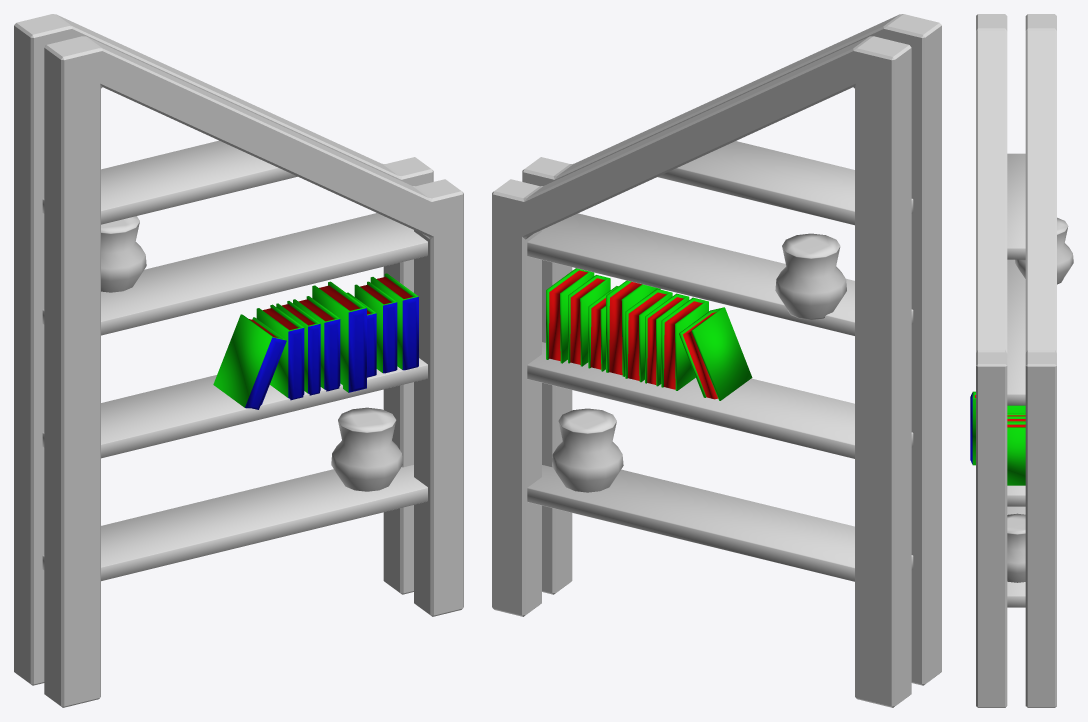
File: polka2.fbx
The picture shows the model from 3 angles, left to right: view 1: azimuth 30°, elevation 25°; view 2: azimuth 150°, elevation 25°; view 3: azimuth 270°, elevation 25°; orthographic projection. The views are drawn at different scales.
Visible parts, largest first — view 1: Cube.006, Cube.041, Cube.042, Cylinder.017, Cube.043, Cube.047, Cylinder.016, Cube.044, Cube.050, Cube.049, Cube.046, Cube.045 (+1 smaller); view 2: Cube.042, Cube.041, Cube.006, Cylinder.016, Cylinder.017, Cube.043, Cube.044, Cube.047, Cube.050, Cube.049, Cube.046, Cube.045 (+1 smaller); view 3: Cube.006, Cube.042, Cube.041, Cylinder.017, Cube.050, Cylinder.016, Cube.047.
Boxes of the visible parts, <box> form: Cube.006: <box>44,36,463,707</box>; Cube.041: <box>42,140,427,581</box>; Cube.042: <box>14,14,433,685</box>; Cylinder.017: <box>331,407,402,491</box>; Cube.043: <box>213,314,286,409</box>; Cube.047: <box>312,281,366,392</box>; Cylinder.016: <box>101,216,146,292</box>; Cube.044: <box>256,304,304,400</box>; Cube.050: <box>370,273,418,370</box>; Cube.049: <box>354,281,397,373</box>; Cube.046: <box>293,296,340,391</box>; Cube.045: <box>276,301,320,395</box>; Cube.042: <box>492,36,911,707</box>; Cube.041: <box>527,141,913,581</box>; Cube.006: <box>522,14,941,685</box>; Cylinder.016: <box>775,233,846,319</box>; Cylinder.017: <box>552,408,623,492</box>; Cube.043: <box>679,307,752,400</box>; Cube.044: <box>661,297,708,390</box>; Cube.047: <box>606,280,660,376</box>; Cube.050: <box>546,268,594,363</box>; Cube.049: <box>568,275,610,366</box>; Cube.046: <box>625,289,672,382</box>; Cube.045: <box>645,293,689,386</box>; Cube.006: <box>976,14,1007,707</box>; Cube.042: <box>1025,14,1056,707</box>; Cube.041: <box>1007,153,1025,607</box>; Cylinder.017: <box>1007,513,1025,582</box>; Cube.050: <box>1007,422,1025,485</box>; Cylinder.016: <box>1015,217,1073,284</box>; Cube.047: <box>970,391,1025,465</box>.
Bounding box in the file's own units: 564 × 871 × 153.
